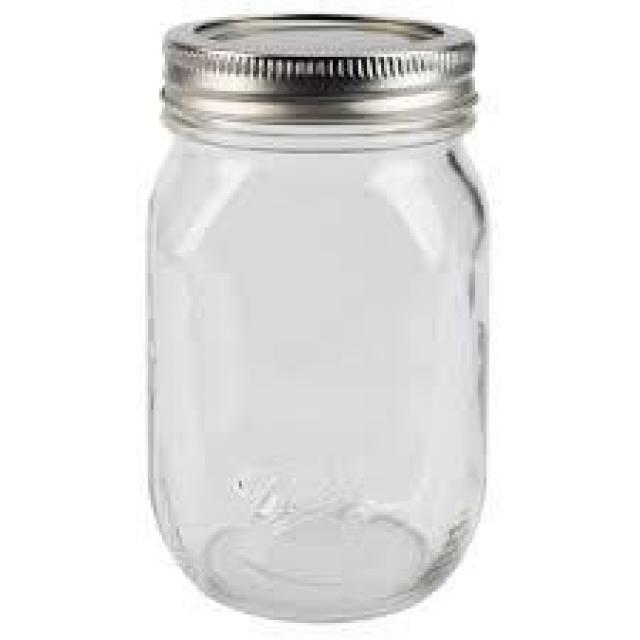non-organic waste: (141, 6, 496, 628)
